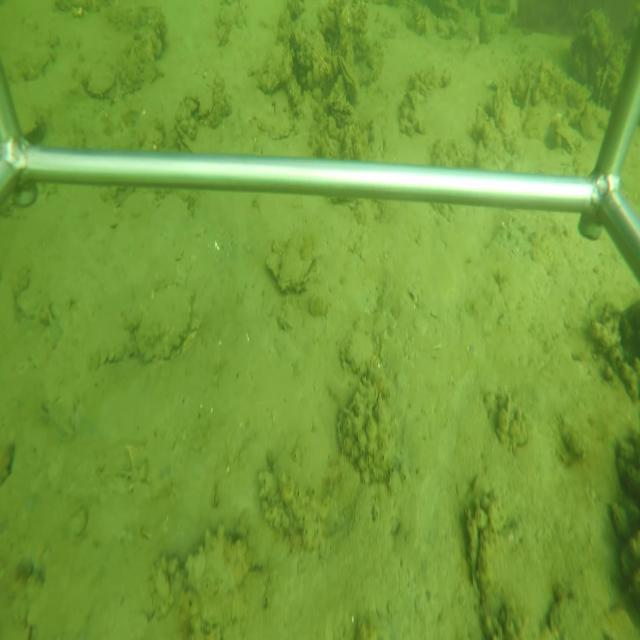Oyster-Closed: (260, 230, 318, 295), (258, 40, 289, 96)
Oyster-Indeterminate: (131, 280, 196, 363), (88, 64, 120, 98)
Oyster-Open: (336, 45, 359, 94)
